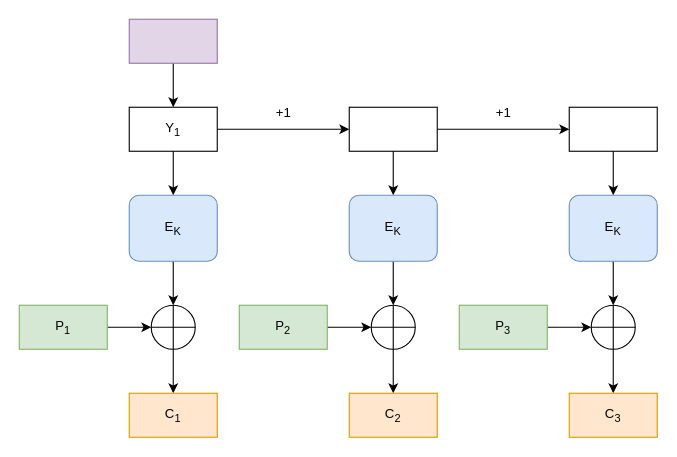
This 677x457 diagram has some shape labels left out. Here are the shapes that lost their labels. From the top down, the box of each, then its label:
(128, 18, 217, 63): Nonce/IV
(348, 106, 437, 151): Y 2
(568, 106, 657, 151): Y 3
